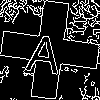A: (25, 25, 65, 75)
